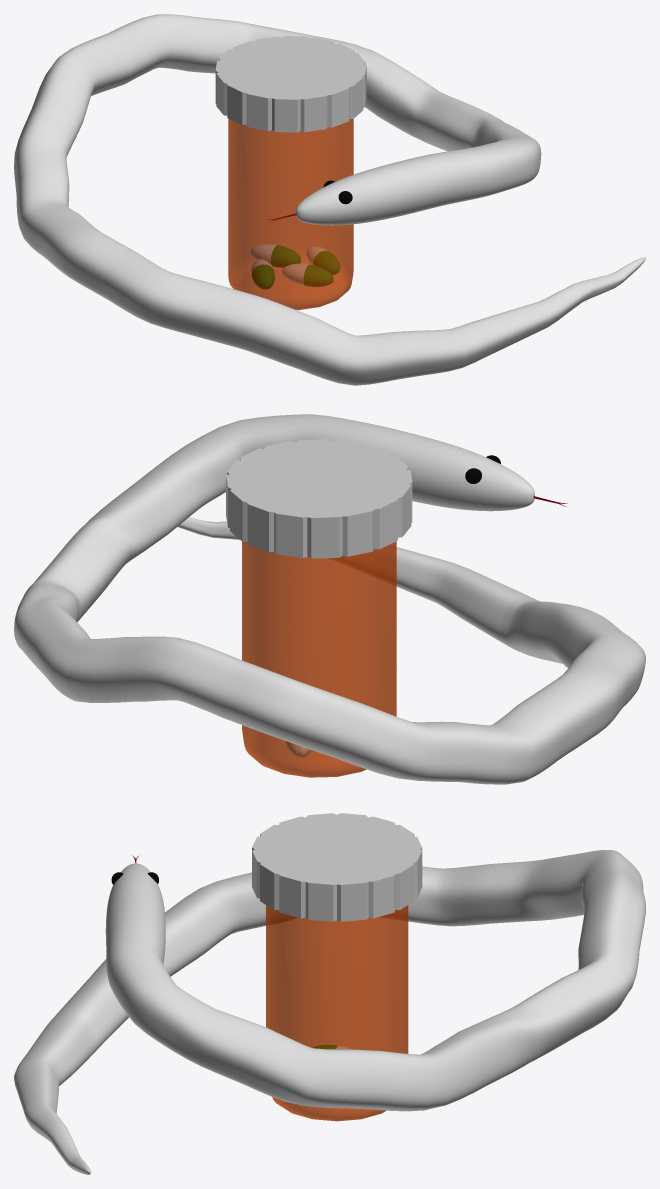
File: SnakePills.fbx
3 renders of one model, top to bottom at view 1: azimuth 30°, elevation 25°; view 2: azimuth 150°, elevation 25°; view 3: azimuth 270°, elevation 25°, orthographic. The views are drawn at different scales.
Visible parts, largest first — view 1: Snake.003, PillBottle, Pill Bottle Cap, Pill3, Pill4, Pill1, Pill2; view 2: Snake.003, PillBottle, Pill Bottle Cap; view 3: Snake.003, PillBottle, Pill Bottle Cap.
Boxes of the visible parts, <box> form: Snake.003: <box>14,14,645,385</box>; PillBottle: <box>228,118,353,310</box>; Pill Bottle Cap: <box>215,36,366,132</box>; Pill3: <box>282,264,333,286</box>; Pill4: <box>251,244,300,267</box>; Pill1: <box>306,246,339,274</box>; Pill2: <box>251,259,274,289</box>; Snake.003: <box>14,414,645,784</box>; PillBottle: <box>242,541,396,777</box>; Pill Bottle Cap: <box>226,439,412,558</box>; Snake.003: <box>14,850,645,1174</box>; PillBottle: <box>266,905,408,1121</box>; Pill Bottle Cap: <box>252,813,422,921</box>.
Size of the model in its own units: 1.19 by 0.5221 by 1.21.
